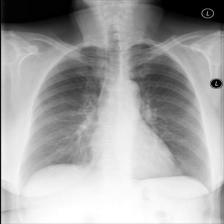normal: (19, 41, 216, 201)
